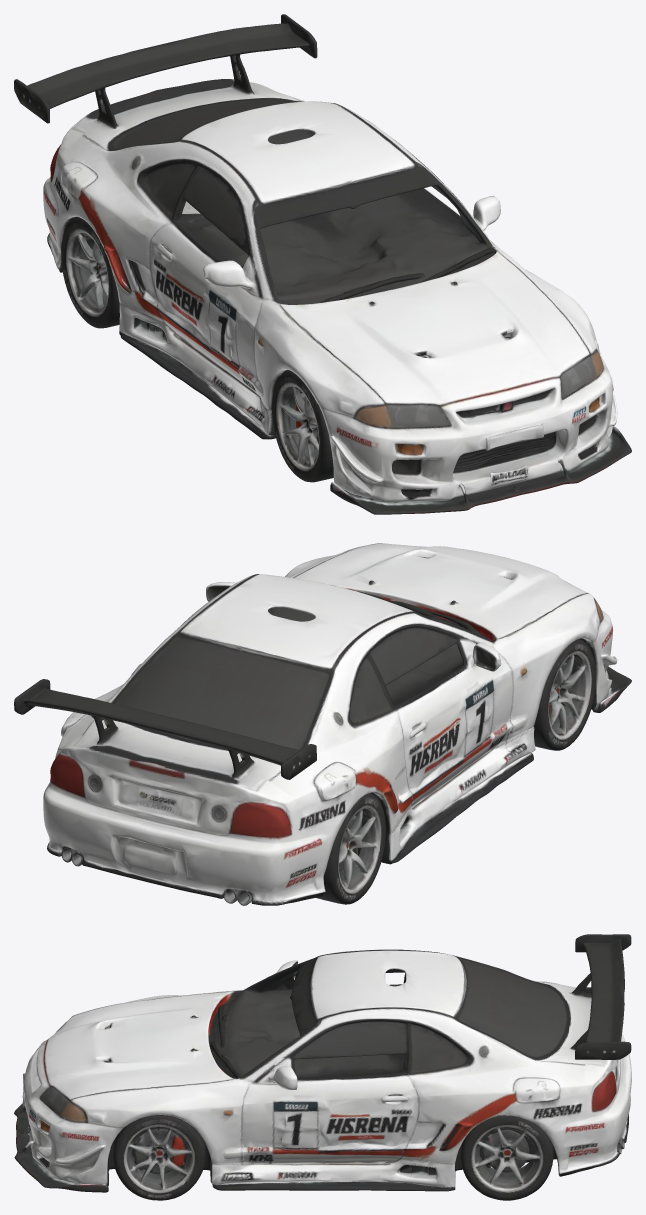
The model's file is 014_drift_coupe_white.glb.
The picture shows the model from 3 angles, top to bottom: view 1: azimuth 30°, elevation 25°; view 2: azimuth 150°, elevation 25°; view 3: azimuth 270°, elevation 25°; orthographic projection. The views are drawn at different scales.
Parts seen in each view (by area): view 1: geometry_0; view 2: geometry_0; view 3: geometry_0.
Boxes of the visible parts, x1,y1,x2,y2 form: geometry_0: [14, 14, 631, 514]; geometry_0: [14, 543, 631, 905]; geometry_0: [14, 934, 631, 1200].
Bounding box in the file's own units: 2.08 × 1.4 × 4.6.
Materials: 1 (1 with a texture image).
